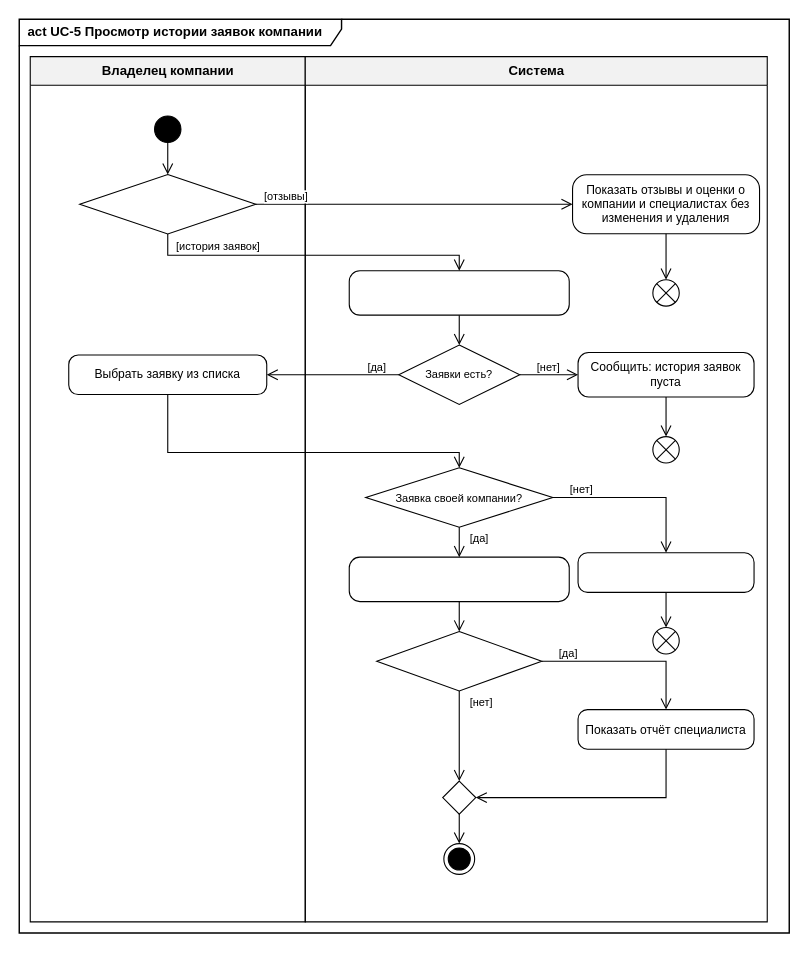
This 810x953 diagram has some shape labels left out. Here are the shapes that lost their labels. From the top down, the centre of each, then its label:
At pixel 167 203: "Какой раздел открыт?".
At pixel 458 292: "Показать заявки компании с текущими статусами".
At pixel 458 579: "Показать детали и хронологию статусов (время, пользователь)".
At pixel 665 572: "Отказать в доступе".
At pixel 459 660: "Заявка завершена?".
